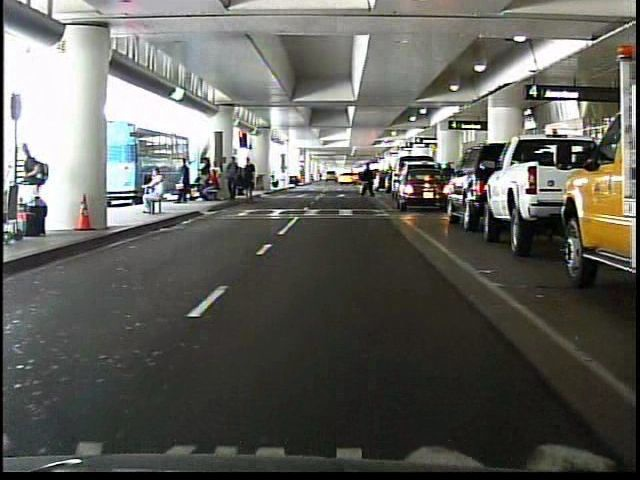person: (136, 167, 168, 218), (173, 156, 192, 208), (360, 159, 379, 203), (356, 160, 372, 197)
